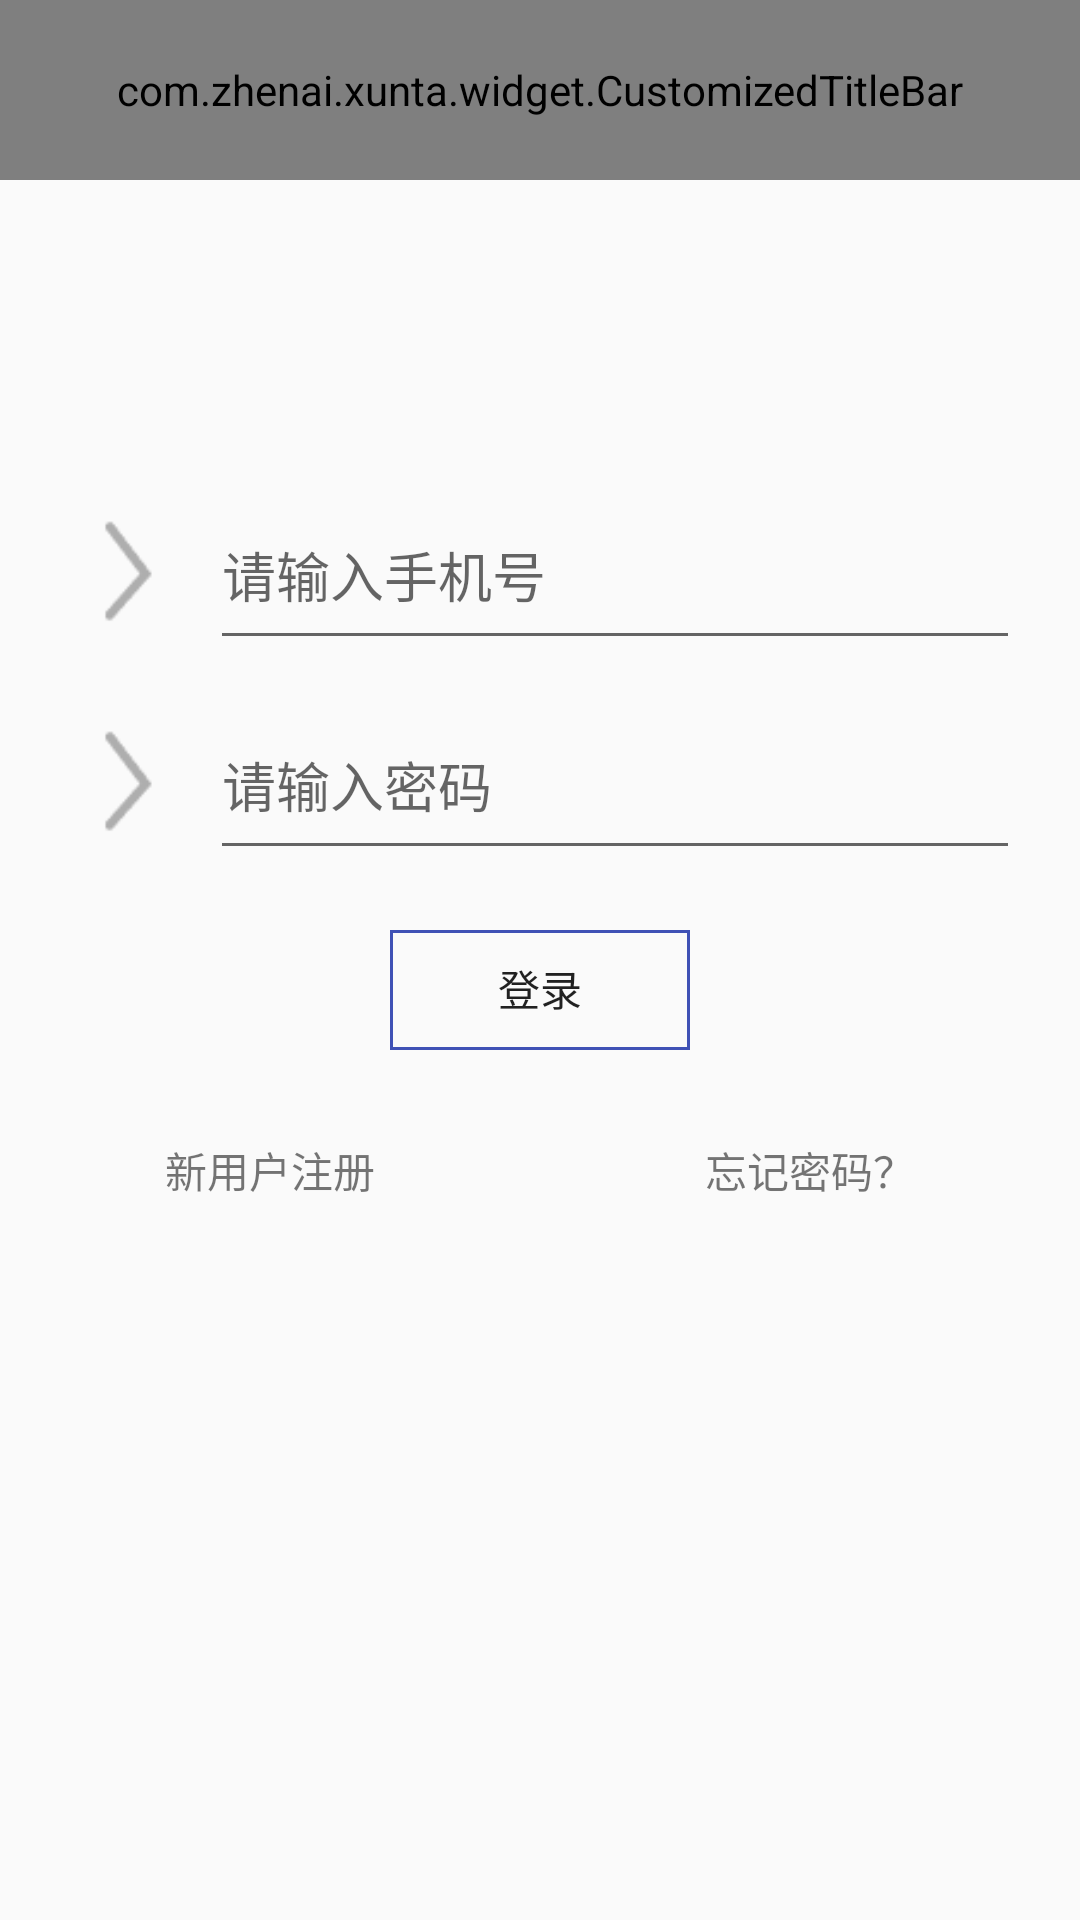

Icons on this 1080w x 1920h Android screen, each with the point to tap as point (x, y):
arrow: point (128, 571), point (128, 781)
